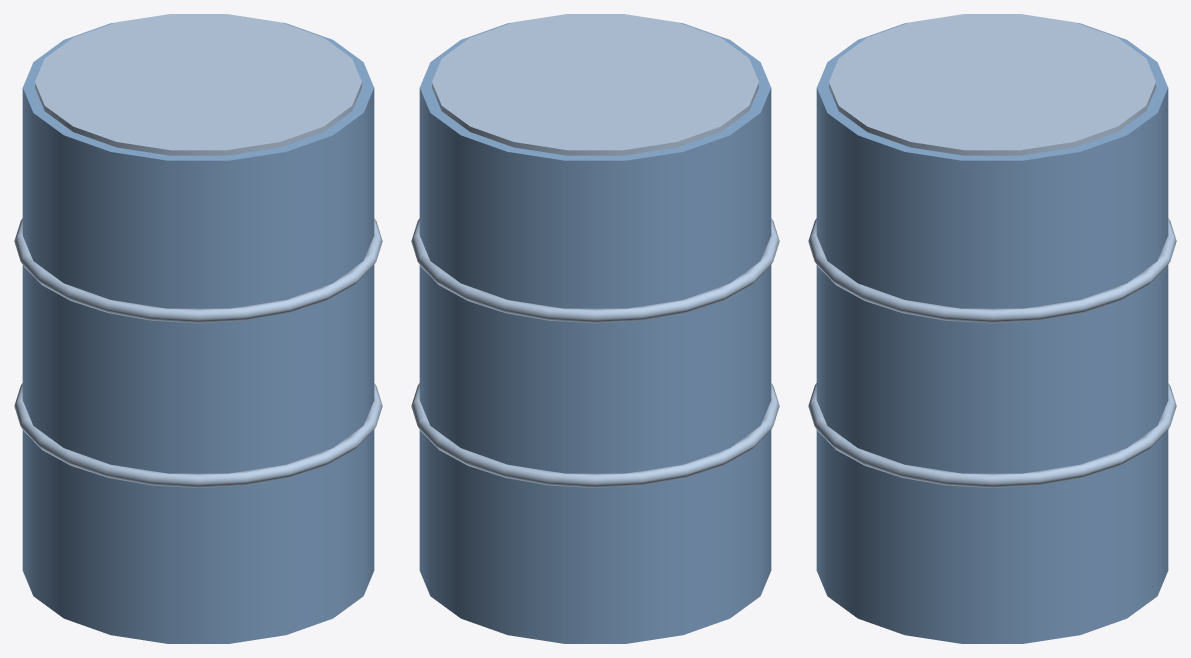
The model's file is prop.barrel.glb.
3 views of the same model, side by side, from view 1: azimuth 30°, elevation 25°; view 2: azimuth 150°, elevation 25°; view 3: azimuth 270°, elevation 25° (orthographic).
Visible parts, largest first — view 1: prop.barrel; view 2: prop.barrel; view 3: prop.barrel.
Boxes of the visible parts, x1,y1,x2,y2 form: prop.barrel: (14, 14, 382, 643); prop.barrel: (411, 14, 779, 643); prop.barrel: (808, 14, 1176, 643).
Bounding box in the file's own units: 0.608 × 0.89 × 0.608.
